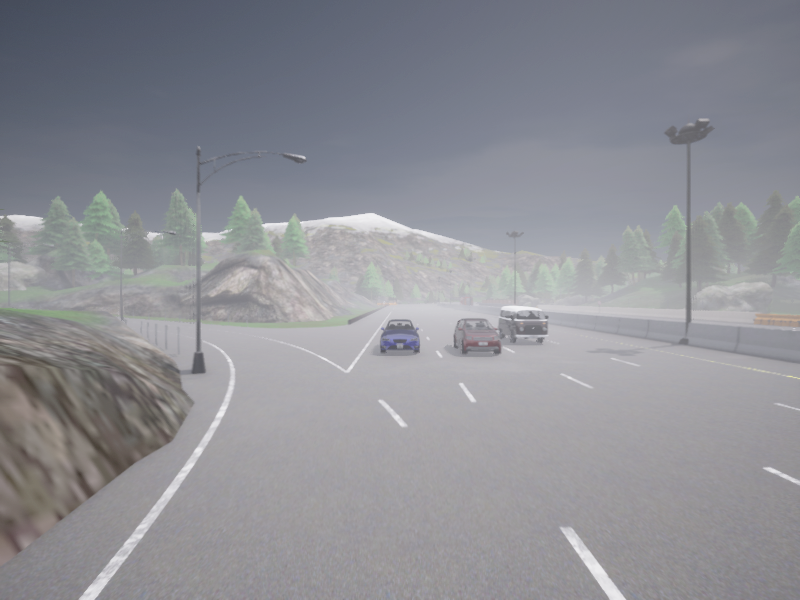vehicle: (497, 306, 547, 343), (453, 318, 500, 354), (380, 319, 419, 353), (459, 295, 472, 305), (487, 297, 494, 299), (477, 302, 481, 303)
